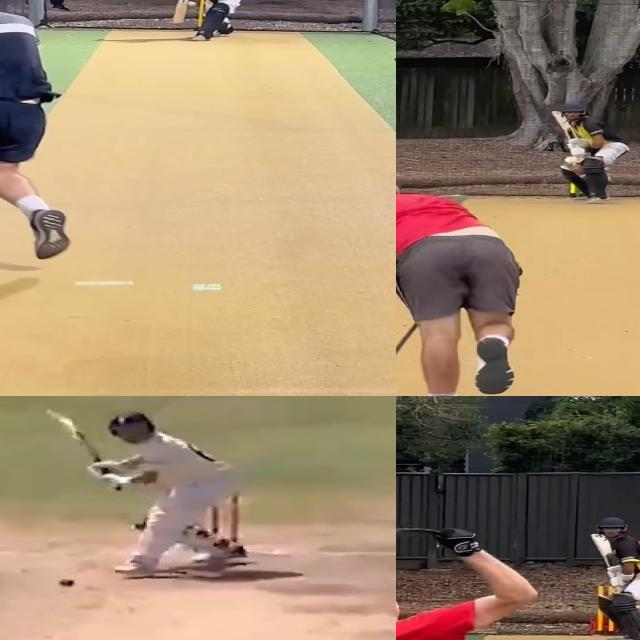Cricket ball: (56, 577, 76, 589), (562, 154, 581, 166), (187, 0, 197, 6)
